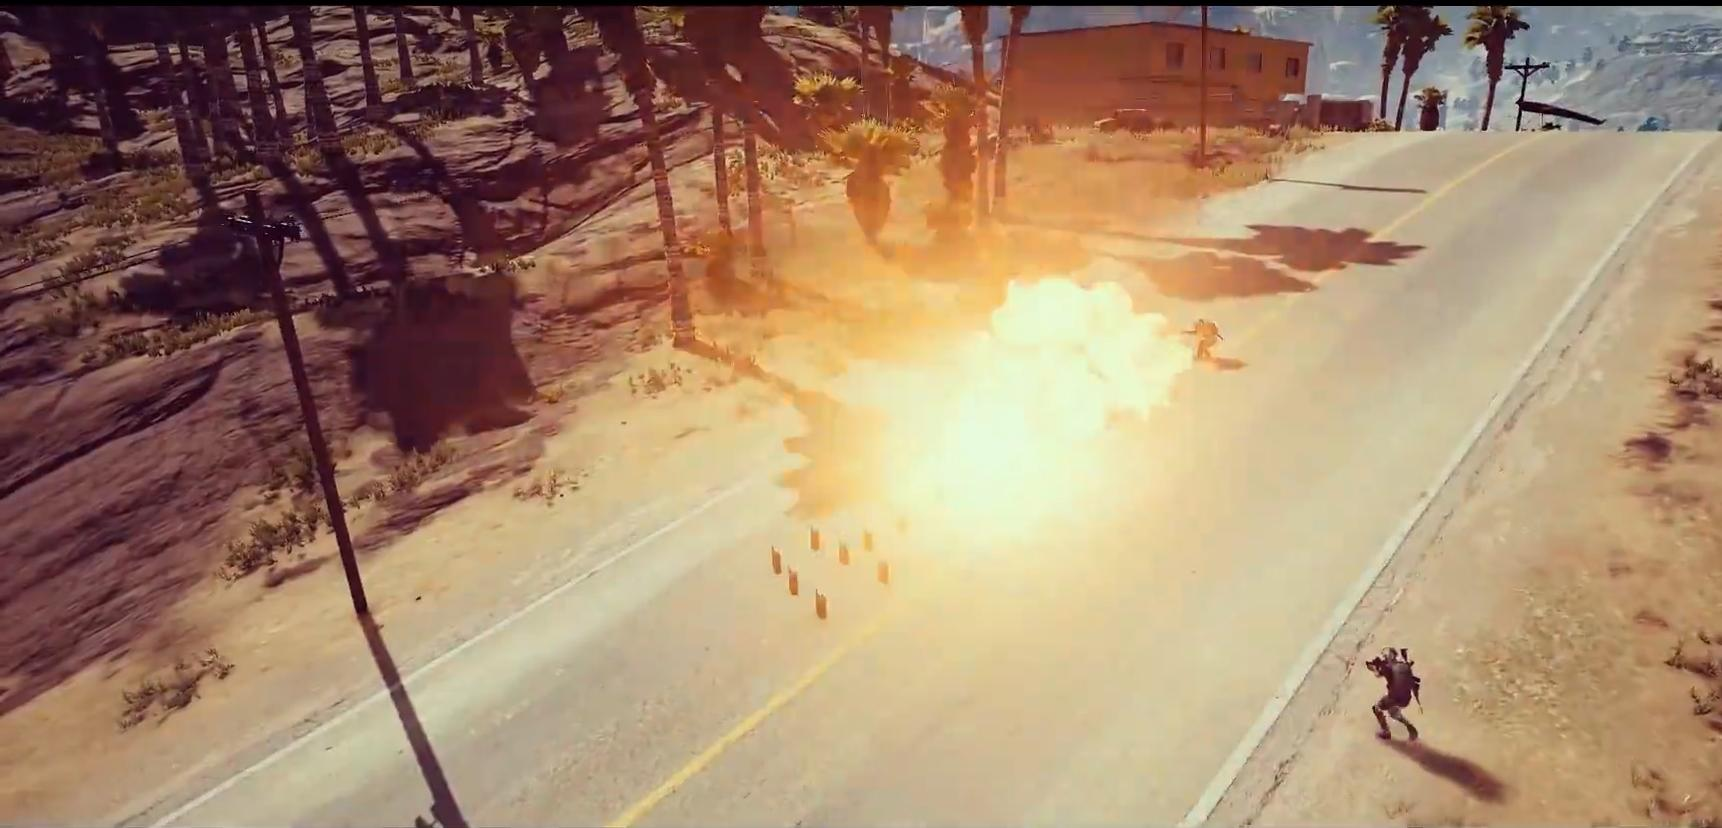fire: (794, 225, 1248, 607)
